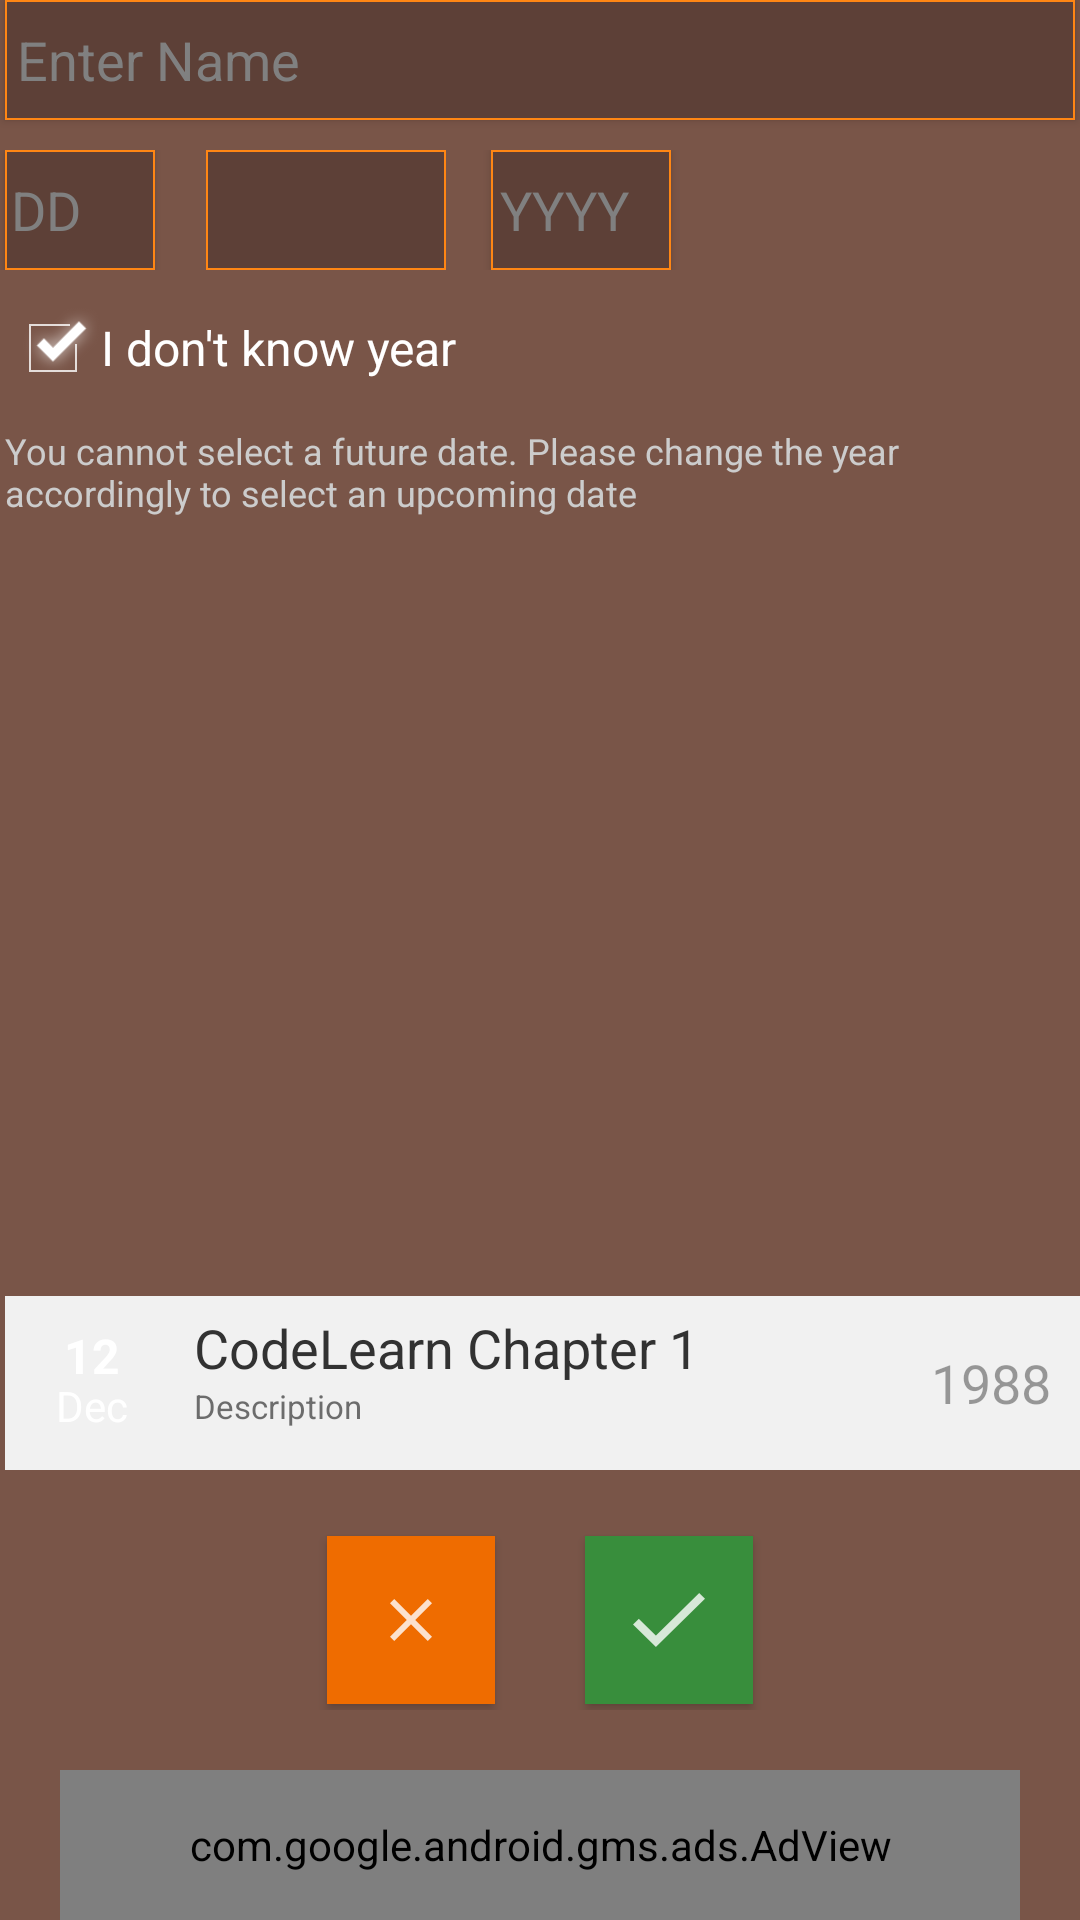

Icon bounding boxes for this 1080×1920 phone screenshot, format (x1, y1, x2, y2):
cancel: (327, 1536, 495, 1704)
done: (585, 1536, 753, 1704)
